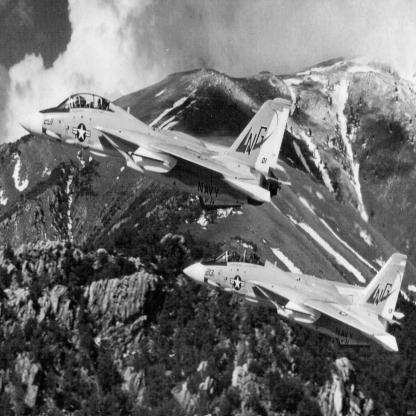F14: (19, 93, 293, 212), (184, 250, 409, 353)
